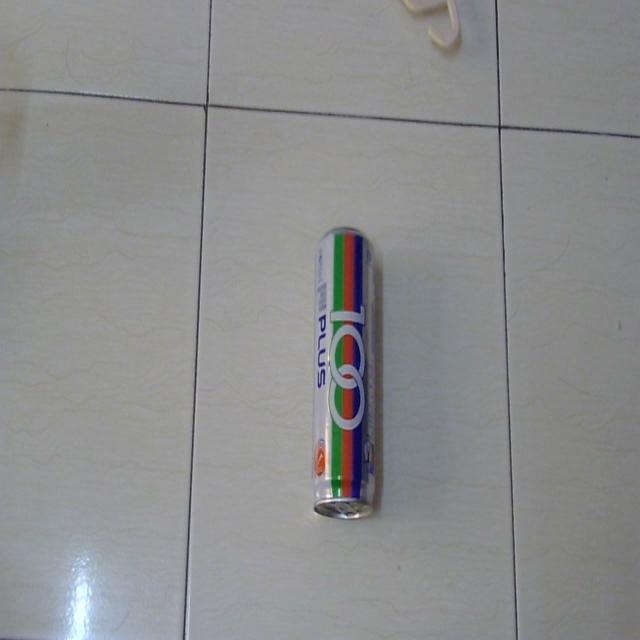metal_laydown_90rotation: (306, 217, 392, 528)
